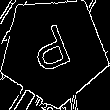P_S: (28, 20, 80, 81)
